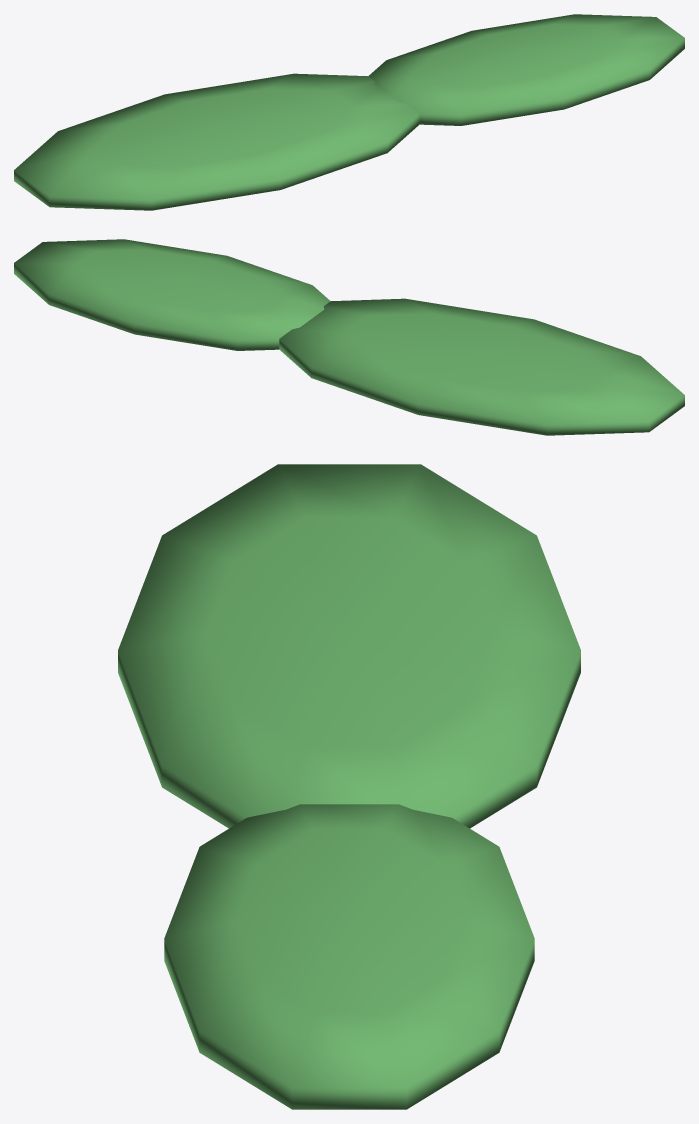
The model's file is kaffir_leaf.fbx.
The picture shows the model from 3 angles, top to bottom: view 1: azimuth 30°, elevation 25°; view 2: azimuth 150°, elevation 25°; view 3: azimuth 270°, elevation 25°; orthographic projection. The views are drawn at different scales.
Visible parts, largest first — view 1: kaffir_leaf; view 2: kaffir_leaf; view 3: kaffir_leaf.
Boxes of the visible parts, <box> form: kaffir_leaf: <box>14,14,684,210</box>; kaffir_leaf: <box>14,239,684,435</box>; kaffir_leaf: <box>118,464,580,1109</box>.
Bounding box in the file's own units: 0.1514 × 0.008 × 0.0476.
